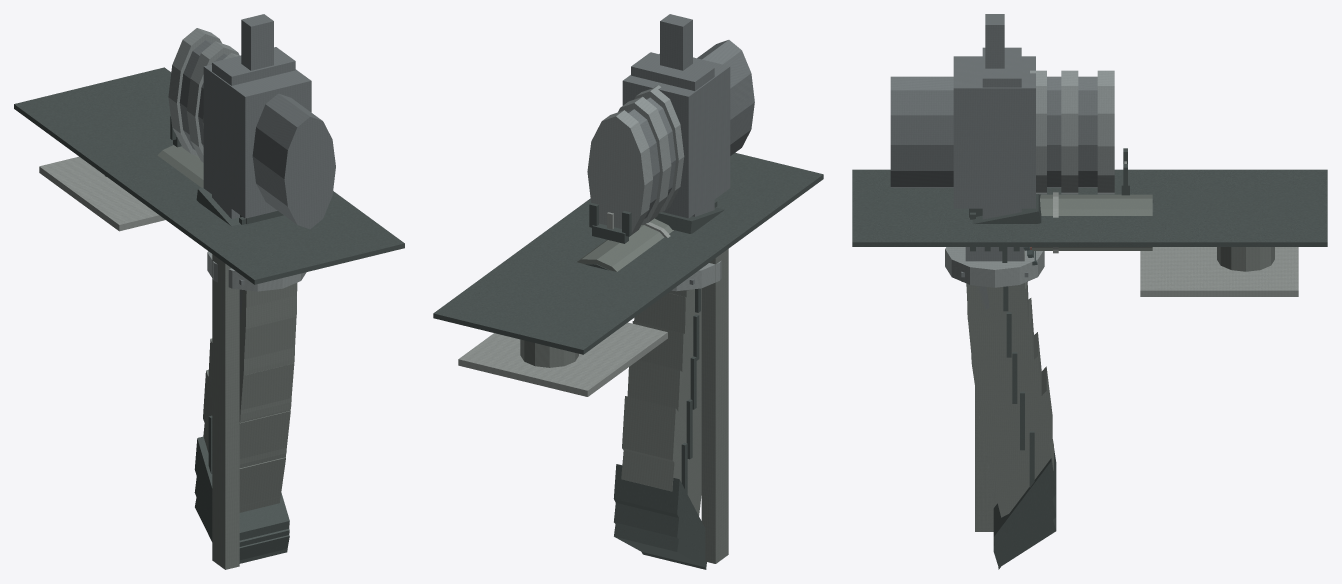
File: weapon_asval.glb
3 renders of one model, left to right at view 1: azimuth 30°, elevation 25°; view 2: azimuth 150°, elevation 25°; view 3: azimuth 270°, elevation 25°, orthographic.
Visible parts, largest first — view 1: weapon_asval__L1_stock__val_stock, weapon_asval__L0_stock__val_stock, weapon_asval__L0_mount_optic__scope6, weapon_asval__L0_mount_optic__prism2, weapon_asval__L0_magazine__val_30, weapon_asval__L1_mount_optic__prism2, weapon_asval__L0_mount__val_mount, weapon_asval__L1_mount_optic__scope6, weapon_asval__L1_mount__val_mount, weapon_asval__L1_magazine__val_30, weapon_asval__L0_magazine__val_10, weapon_asval__L1_magazine__val_10 (+10 smaller); view 2: weapon_asval__L0_stock__val_stock, weapon_asval__L1_stock__val_stock, weapon_asval__L0_magazine__val_10, weapon_asval__L1_magazine__val_10, weapon_asval__L0_mount_optic__scope6, weapon_asval__L0_mount__val_mount, weapon_asval__L1_mount_optic__prism2, weapon_asval__L0_mount_optic__prism2, weapon_asval__L1_mount_optic__scope6, weapon_asval__L1_magazine__val_20, weapon_asval__L0_magazine__val_30, weapon_asval__L1_mount__val_mount (+10 smaller); view 3: weapon_asval__L0_stock__val_stock, weapon_asval__L1_stock__val_stock, weapon_asval__L0_mount_optic__prism2, weapon_asval__L0_mount_optic__scope6, weapon_asval__L0_magazine__val_10, weapon_asval__L1_mount_optic__prism2, weapon_asval__L0_magazine__val_20, weapon_asval__L1_magazine__val_10, weapon_asval__L0_mount_optic__scope4, weapon_asval__L1_mount_optic__scope6, weapon_asval__L0_magazine__val_30, weapon_asval__L0_body (+13 smaller).
Boxes of the visible parts, x1,y1,x2,y2 form: weapon_asval__L1_stock__val_stock: (14, 67, 404, 284); weapon_asval__L0_stock__val_stock: (15, 69, 401, 283); weapon_asval__L0_mount_optic__scope6: (168, 28, 334, 226); weapon_asval__L0_mount_optic__prism2: (187, 42, 310, 216); weapon_asval__L0_magazine__val_30: (195, 283, 296, 560); weapon_asval__L1_mount_optic__prism2: (186, 41, 311, 218); weapon_asval__L0_mount__val_mount: (212, 255, 238, 566); weapon_asval__L1_mount_optic__scope6: (168, 28, 335, 229); weapon_asval__L1_mount__val_mount: (212, 254, 239, 569); weapon_asval__L1_magazine__val_30: (195, 283, 297, 559); weapon_asval__L0_magazine__val_10: (195, 290, 295, 537); weapon_asval__L1_magazine__val_10: (194, 291, 296, 563); weapon_asval__L0_stock__val_stock: (436, 154, 817, 395); weapon_asval__L1_stock__val_stock: (433, 152, 823, 396); weapon_asval__L0_magazine__val_10: (615, 288, 706, 568); weapon_asval__L1_magazine__val_10: (613, 289, 706, 569); weapon_asval__L0_mount_optic__scope6: (589, 40, 753, 234); weapon_asval__L0_mount__val_mount: (702, 249, 728, 560); weapon_asval__L1_mount_optic__prism2: (618, 53, 730, 224); weapon_asval__L0_mount_optic__prism2: (619, 57, 727, 222); weapon_asval__L1_mount_optic__scope6: (587, 40, 754, 233); weapon_asval__L1_magazine__val_20: (614, 288, 706, 567); weapon_asval__L0_magazine__val_30: (615, 291, 704, 566); weapon_asval__L1_mount__val_mount: (701, 249, 728, 563); weapon_asval__L0_stock__val_stock: (855, 171, 1324, 296); weapon_asval__L1_stock__val_stock: (852, 169, 1327, 296); weapon_asval__L0_mount_optic__prism2: (947, 56, 1077, 206); weapon_asval__L0_mount_optic__scope6: (891, 70, 1113, 194); weapon_asval__L0_magazine__val_10: (970, 247, 1055, 559); weapon_asval__L1_mount_optic__prism2: (946, 56, 1078, 208); weapon_asval__L0_magazine__val_20: (967, 247, 1055, 558); weapon_asval__L1_magazine__val_10: (966, 247, 1056, 569); weapon_asval__L0_mount_optic__scope4: (926, 76, 1061, 187); weapon_asval__L1_mount_optic__scope6: (890, 70, 1114, 194); weapon_asval__L0_magazine__val_30: (967, 247, 1055, 552); weapon_asval__L0_body: (969, 152, 1153, 253).
Size of the model in its own units: 2.95 by 10.16 by 8.18.
3 materials, 3 textured.
